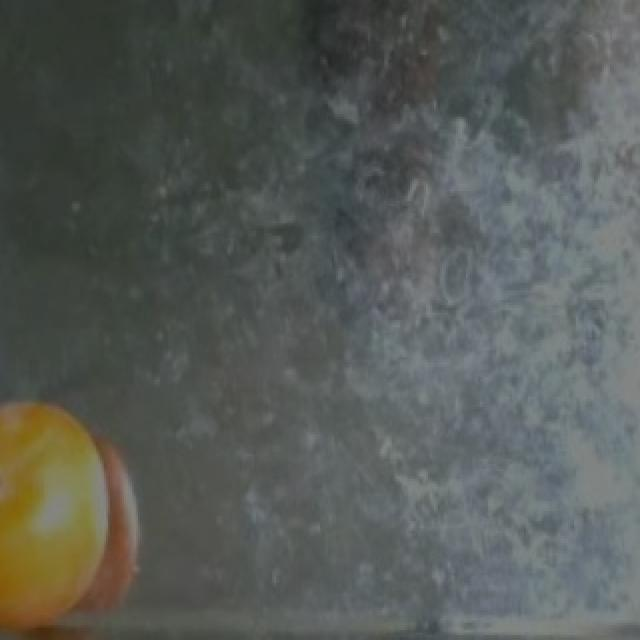Fruit: (0, 380, 134, 635)
